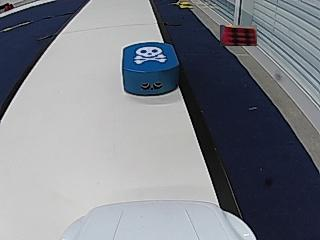danger: (134, 46, 165, 63)
